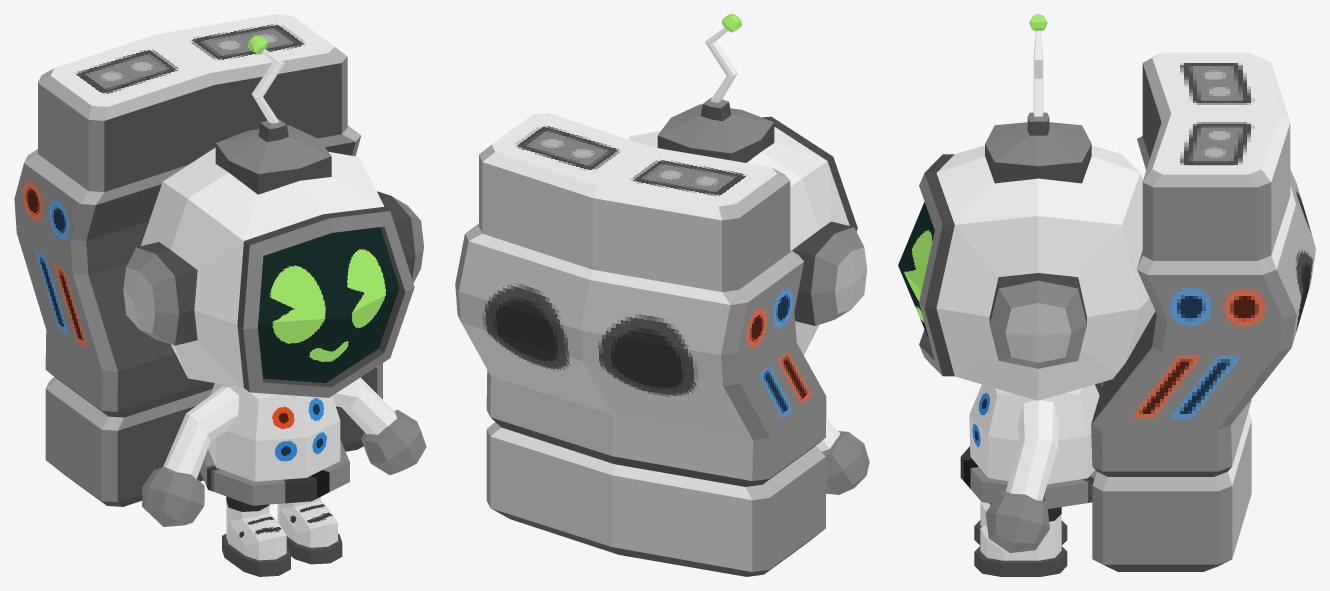
File: Mini1.glb
The picture shows the model from 3 angles, left to right: view 1: azimuth 30°, elevation 25°; view 2: azimuth 150°, elevation 25°; view 3: azimuth 270°, elevation 25°; orthographic projection. The views are drawn at different scales.
Visible parts, largest first — view 1: Cube.003, Cube, Cube.001, Cylinder, Cylinder.001, Cylinder.003, Cube.005, Cube.004, Cylinder.002; view 2: Cube.003, Cube, Cube.005; view 3: Cube.003, Cube, Cube.001, Cylinder.002, Cylinder.003, Cube.004.
Boxes of the visible parts, left/top/right/bottom form: Cube.003: left=14, top=14, right=382, bottom=506; Cube: left=123, top=35, right=423, bottom=397; Cube.001: left=200, top=383, right=349, bottom=505; Cylinder: left=222, top=496, right=290, bottom=576; Cylinder.001: left=163, top=386, right=238, bottom=478; Cylinder.003: left=277, top=497, right=342, bottom=564; Cube.005: left=142, top=467, right=204, bottom=526; Cube.004: left=361, top=410, right=426, bottom=474; Cylinder.002: left=332, top=377, right=397, bottom=434; Cube.003: left=455, top=113, right=826, bottom=576; Cube: left=628, top=14, right=867, bottom=355; Cube.005: left=822, top=431, right=869, bottom=494; Cube.003: left=1091, top=52, right=1315, bottom=571; Cube: left=898, top=14, right=1155, bottom=400; Cube.001: left=960, top=384, right=1099, bottom=508; Cylinder.002: left=1006, top=400, right=1058, bottom=500; Cylinder.003: left=974, top=507, right=1067, bottom=576; Cube.004: left=985, top=491, right=1049, bottom=552.
Size of the model in its own units: 2 by 3.49 by 2.5.
1 material, 1 textured.
